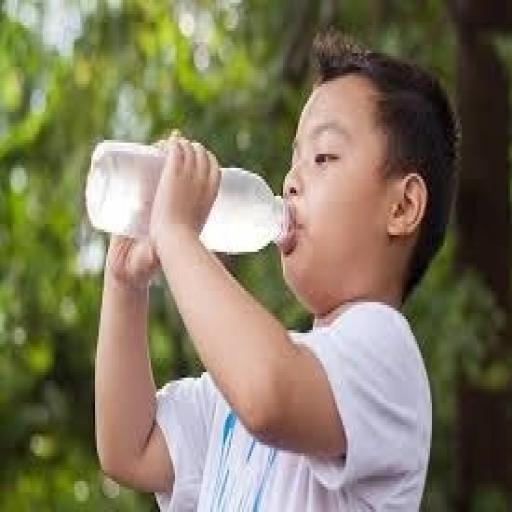drinking: (84, 137, 285, 255)
